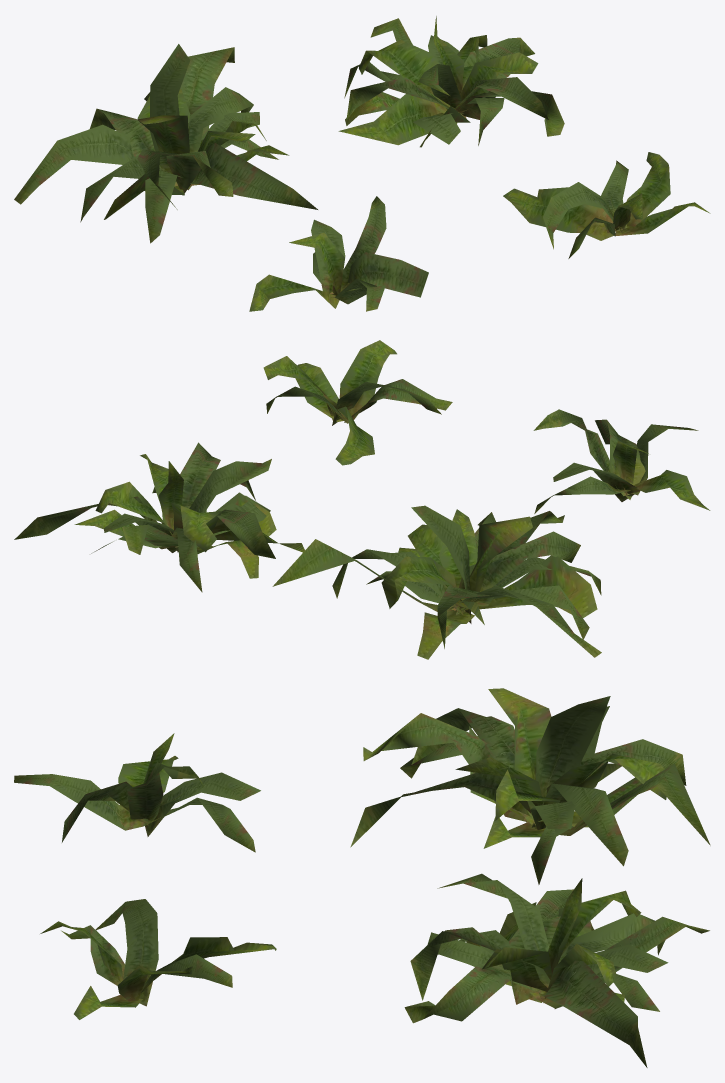
The model's file is fern_02.glb.
3 views of the same model, one above another, from view 1: azimuth 30°, elevation 25°; view 2: azimuth 150°, elevation 25°; view 3: azimuth 270°, elevation 25° (orthographic). The views are drawn at different scales.
Parts seen in each view (by area): view 1: fern_02_b, fern_02_c, fern_02_d, fern_02_a; view 2: fern_02_b, fern_02_c, fern_02_d, fern_02_a; view 3: fern_02_b, fern_02_c, fern_02_a, fern_02_d.
Part boxes in pixels (x1,y1,x2,y2): fern_02_b: (14, 44, 317, 243); fern_02_c: (338, 16, 564, 147); fern_02_d: (503, 152, 710, 258); fern_02_a: (249, 196, 428, 311); fern_02_b: (272, 505, 601, 659); fern_02_c: (14, 442, 304, 592); fern_02_d: (263, 340, 452, 465); fern_02_a: (533, 409, 710, 513); fern_02_b: (350, 688, 710, 884); fern_02_c: (404, 873, 709, 1067); fern_02_a: (14, 733, 260, 852); fern_02_d: (40, 899, 276, 1019).
Size of the model in its own units: 1.96 by 0.4245 by 1.71.
Materials: 1 (1 with a texture image).
